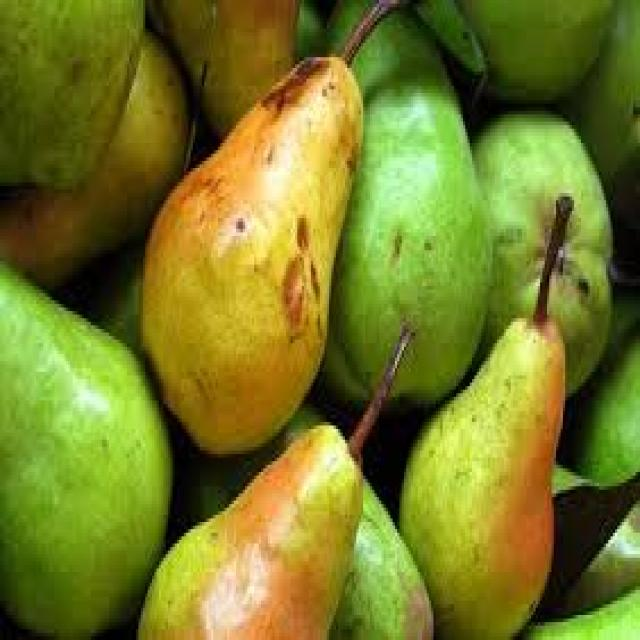organic waste: (136, 0, 400, 447), (134, 322, 413, 636), (390, 189, 565, 636), (311, 0, 490, 404), (0, 253, 172, 636), (179, 397, 431, 636), (0, 25, 186, 286), (468, 100, 608, 397), (0, 0, 143, 189), (552, 0, 638, 272), (422, 0, 617, 97), (533, 454, 638, 619), (556, 279, 638, 486), (48, 204, 138, 347), (404, 0, 486, 86), (522, 576, 638, 636)
